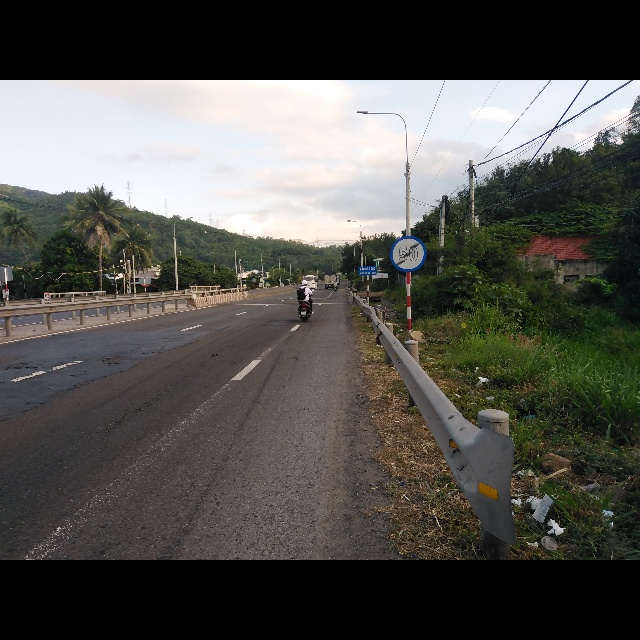Hết hạn chế tốc độ tối đa 50km/h: (388, 233, 425, 272)
